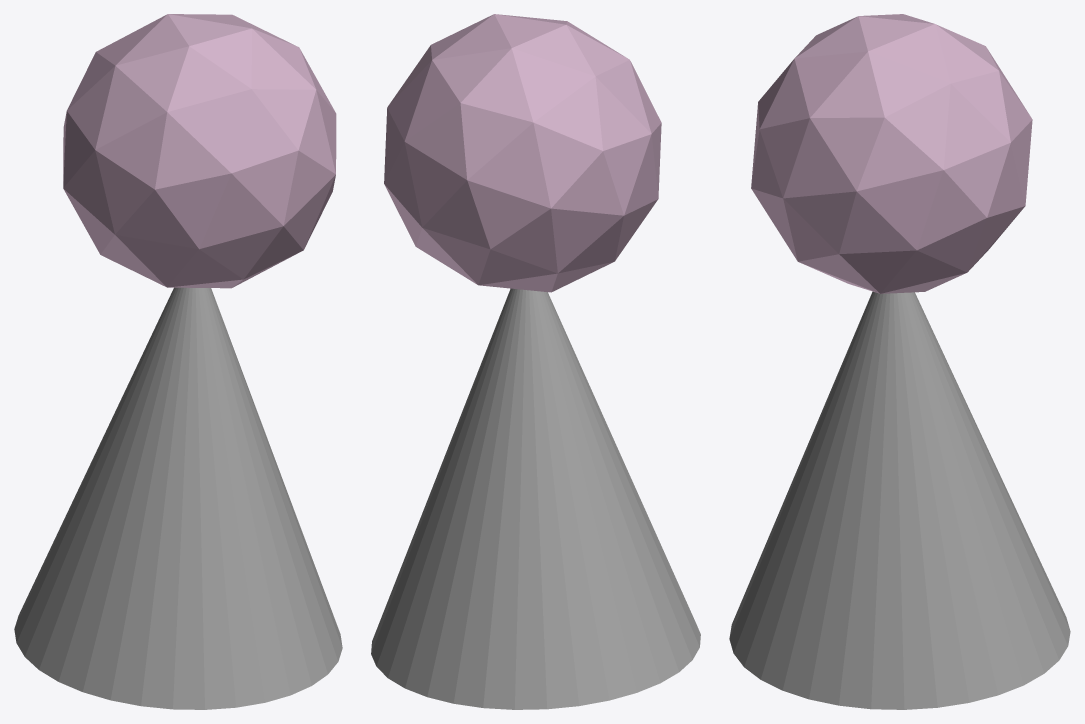
3 views of the same model, side by side, from view 1: azimuth 30°, elevation 25°; view 2: azimuth 150°, elevation 25°; view 3: azimuth 270°, elevation 25° (orthographic).
Parts seen in each view (by area): view 1: Cone, Icosphere; view 2: Cone, Icosphere; view 3: Cone, Icosphere.
Part boxes in pixels (x1,y1,x2,y2): Cone: (14, 287, 342, 709); Icosphere: (63, 14, 336, 288); Cone: (371, 288, 700, 709); Icosphere: (384, 14, 661, 292); Cone: (729, 291, 1070, 709); Icosphere: (751, 14, 1032, 293).
Bounding box in the file's own units: 4.55 × 9.45 × 4.71.
